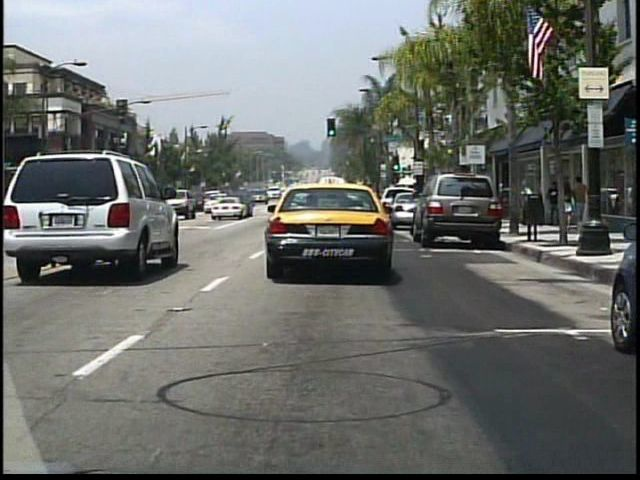person: (573, 172, 592, 233), (545, 176, 562, 225), (565, 176, 572, 230)
